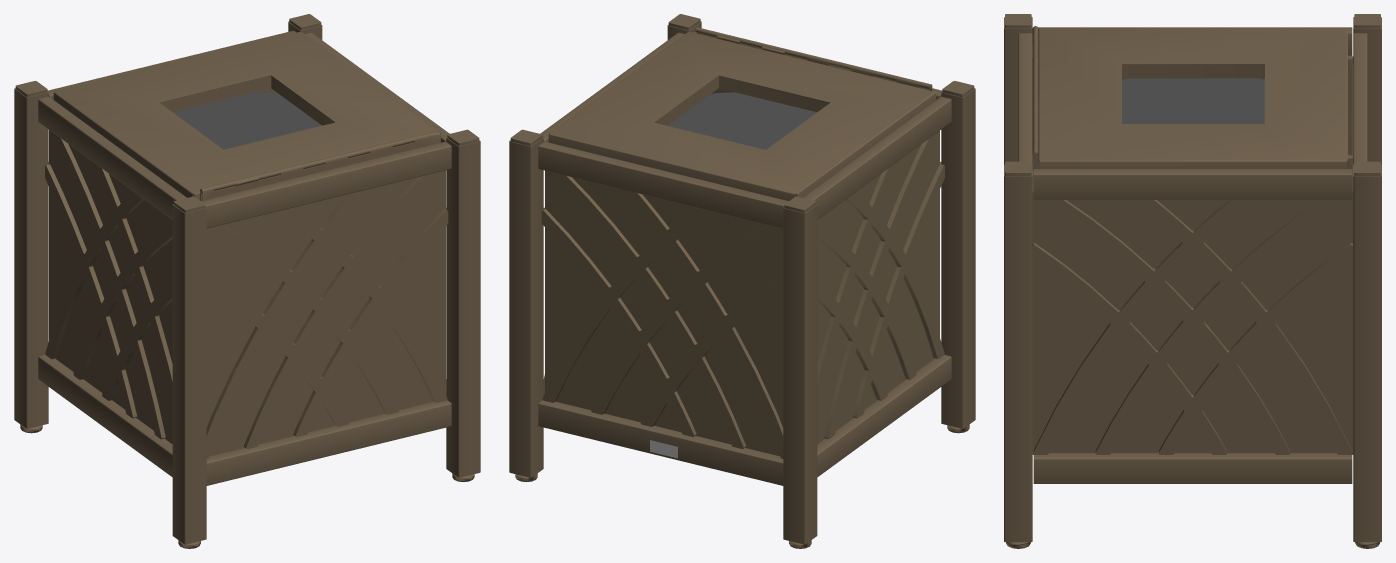
The picture shows the model from 3 angles, left to right: view 1: azimuth 30°, elevation 25°; view 2: azimuth 150°, elevation 25°; view 3: azimuth 270°, elevation 25°; orthographic projection. The views are drawn at different scales.
Visible parts, largest first — view 1: mesh1_mesh1-geometry, mesh37_mesh37-geometry, mesh98_mesh98-geometry, mesh35_mesh35-geometry, mesh34_mesh34-geometry, mesh36_mesh36-geometry, mesh25_mesh25-geometry, mesh26_mesh26-geometry, mesh106_mesh106-geometry, mesh31_mesh31-geometry, mesh32_mesh32-geometry, mesh12_mesh12-geometry (+4 smaller); view 2: mesh1_mesh1-geometry, mesh37_mesh37-geometry, mesh98_mesh98-geometry, mesh36_mesh36-geometry, mesh33_mesh33-geometry, mesh35_mesh35-geometry, mesh27_mesh27-geometry, mesh28_mesh28-geometry, mesh106_mesh106-geometry, mesh31_mesh31-geometry, mesh32_mesh32-geometry, mesh96_mesh96-geometry (+2 smaller); view 3: mesh1_mesh1-geometry, mesh98_mesh98-geometry, mesh37_mesh37-geometry, mesh33_mesh33-geometry, mesh34_mesh34-geometry, mesh29_mesh29-geometry, mesh30_mesh30-geometry, mesh106_mesh106-geometry, mesh35_mesh35-geometry, mesh36_mesh36-geometry, mesh97_mesh97-geometry, mesh25_mesh25-geometry (+2 smaller).
Part boxes in pixels (left/top/right/bottom): mesh1_mesh1-geometry: left=49, top=77, right=445, bottom=456; mesh37_mesh37-geometry: left=45, top=131, right=448, bottom=458; mesh98_mesh98-geometry: left=53, top=31, right=440, bottom=200; mesh35_mesh35-geometry: left=172, top=204, right=206, bottom=544; mesh34_mesh34-geometry: left=446, top=137, right=480, bottom=477; mesh36_mesh36-geometry: left=14, top=88, right=48, bottom=428; mesh25_mesh25-geometry: left=201, top=141, right=451, bottom=228; mesh26_mesh26-geometry: left=206, top=400, right=451, bottom=485; mesh106_mesh106-geometry: left=173, top=92, right=321, bottom=196; mesh31_mesh31-geometry: left=38, top=96, right=186, bottom=219; mesh32_mesh32-geometry: left=38, top=355, right=172, bottom=477; mesh12_mesh12-geometry: left=200, top=131, right=437, bottom=200; mesh1_mesh1-geometry: left=545, top=88, right=939, bottom=456; mesh37_mesh37-geometry: left=541, top=131, right=944, bottom=458; mesh98_mesh98-geometry: left=548, top=32, right=935, bottom=200; mesh36_mesh36-geometry: left=783, top=204, right=817, bottom=544; mesh33_mesh33-geometry: left=509, top=137, right=543, bottom=477; mesh35_mesh35-geometry: left=941, top=88, right=975, bottom=428; mesh27_mesh27-geometry: left=538, top=141, right=788, bottom=228; mesh28_mesh28-geometry: left=538, top=400, right=783, bottom=485; mesh106_mesh106-geometry: left=668, top=92, right=816, bottom=149; mesh31_mesh31-geometry: left=803, top=96, right=951, bottom=219; mesh32_mesh32-geometry: left=817, top=355, right=951, bottom=477; mesh96_mesh96-geometry: left=656, top=76, right=828, bottom=125; mesh1_mesh1-geometry: left=1032, top=56, right=1353, bottom=453; mesh98_mesh98-geometry: left=1038, top=27, right=1347, bottom=168; mesh37_mesh37-geometry: left=1032, top=200, right=1353, bottom=454; mesh33_mesh33-geometry: left=1353, top=164, right=1381, bottom=542; mesh34_mesh34-geometry: left=1004, top=164, right=1032, bottom=542; mesh29_mesh29-geometry: left=1033, top=169, right=1352, bottom=199; mesh30_mesh30-geometry: left=1033, top=453, right=1352, bottom=483; mesh106_mesh106-geometry: left=1122, top=78, right=1264, bottom=123; mesh35_mesh35-geometry: left=1004, top=17, right=1032, bottom=164; mesh36_mesh36-geometry: left=1353, top=17, right=1381, bottom=164; mesh97_mesh97-geometry: left=1122, top=65, right=1264, bottom=78; mesh25_mesh25-geometry: left=1018, top=33, right=1032, bottom=164.
Bounding box in the file's own units: 0.5556 × 0.6186 × 0.5556.
